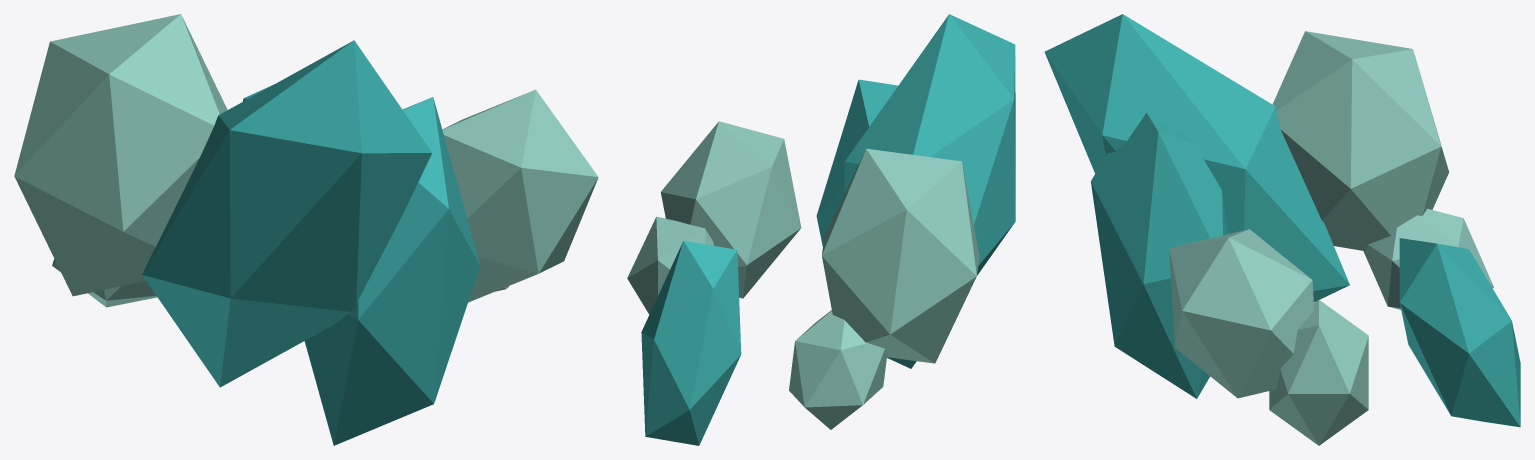
Rendered from boundary-cluster.glb.
3 renders of one model, left to right at view 1: azimuth 30°, elevation 25°; view 2: azimuth 150°, elevation 25°; view 3: azimuth 270°, elevation 25°, orthographic. The views are drawn at different scales.
Parts seen in each view (by area): view 1: rock_5, rock_2, rock_1, rock_4, rock_6; view 2: rock_2, rock_5, rock_3, rock_4, rock_6, rock_1, rock_0; view 3: rock_5, rock_2, rock_1, rock_4, rock_3, rock_0, rock_6.
Part boxes in pixels (bbox=[...]): rock_5: bbox=[142, 40, 431, 387]; rock_2: bbox=[14, 14, 227, 296]; rock_1: bbox=[304, 97, 480, 445]; rock_4: bbox=[442, 89, 598, 302]; rock_6: bbox=[52, 259, 156, 307]; rock_2: bbox=[822, 148, 979, 363]; rock_5: bbox=[844, 14, 1015, 368]; rock_3: bbox=[641, 240, 741, 445]; rock_4: bbox=[660, 121, 801, 298]; rock_6: bbox=[789, 310, 887, 429]; rock_1: bbox=[816, 79, 897, 246]; rock_0: bbox=[627, 216, 714, 314]; rock_5: bbox=[1044, 14, 1349, 302]; rock_2: bbox=[1272, 31, 1449, 250]; rock_1: bbox=[1091, 112, 1228, 398]; rock_4: bbox=[1169, 229, 1314, 398]; rock_3: bbox=[1399, 238, 1520, 427]; rock_0: bbox=[1269, 300, 1368, 445]; rock_6: bbox=[1363, 208, 1493, 309].
Size of what is drawn, in the model's own units: 2.44 by 2.15 by 2.56.
